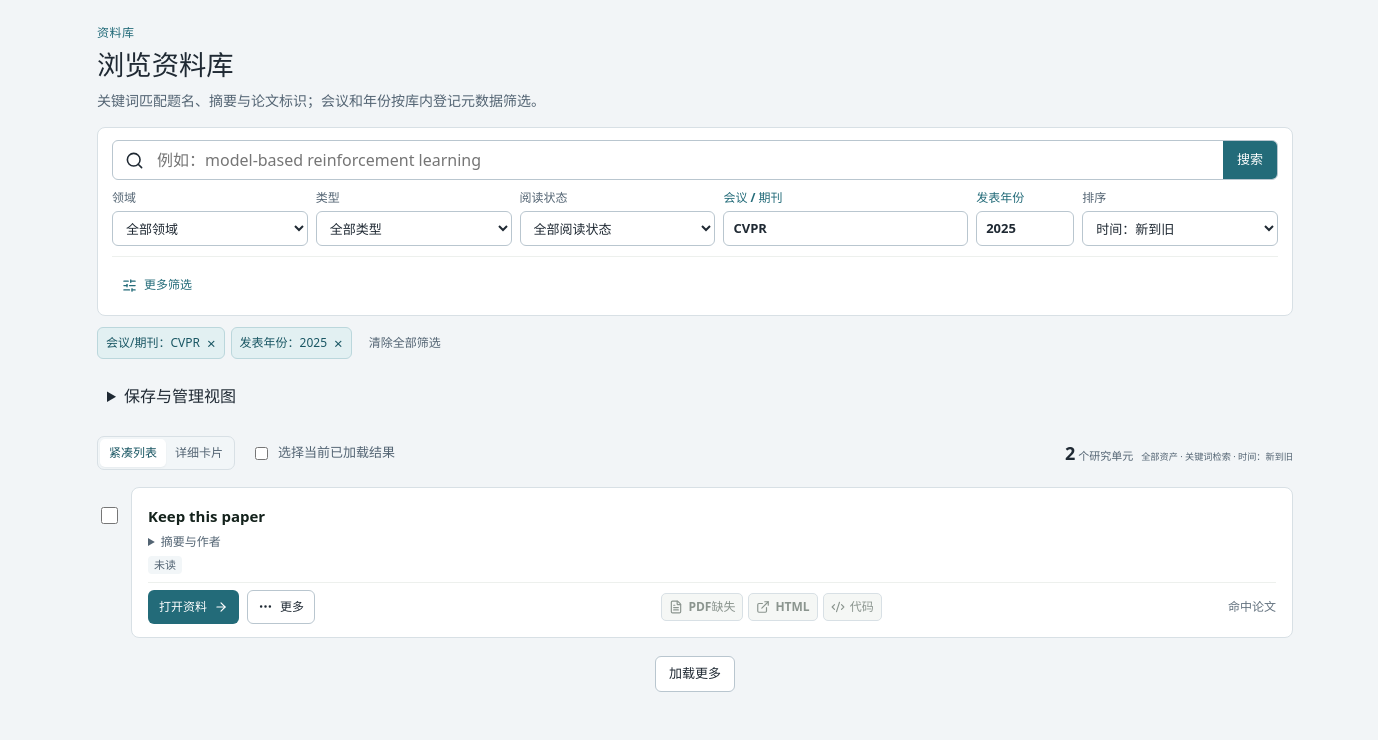
Test: SearchPage › retains loaded results and selection after next-page failure and retries only that page
expect the heading "Keep this paper" is shown: met, box x1=148 y1=506 x2=265 y2=526
Click the checkbox named "选择 Keep this paper".
click(110, 516)  # box x1=101 y1=507 x2=118 y2=524
(page scrolled)
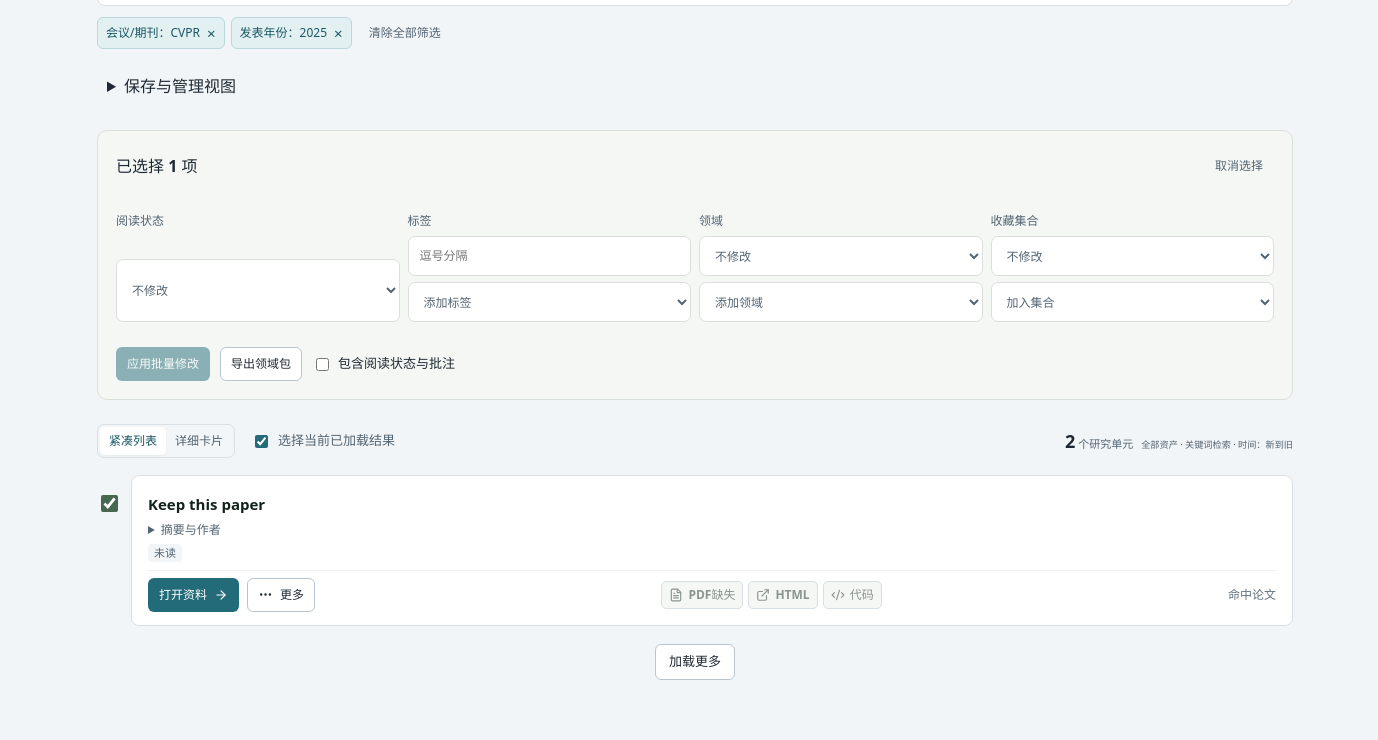
Click the button "加载更多".
click(695, 662)  # box x1=655 y1=644 x2=735 y2=680
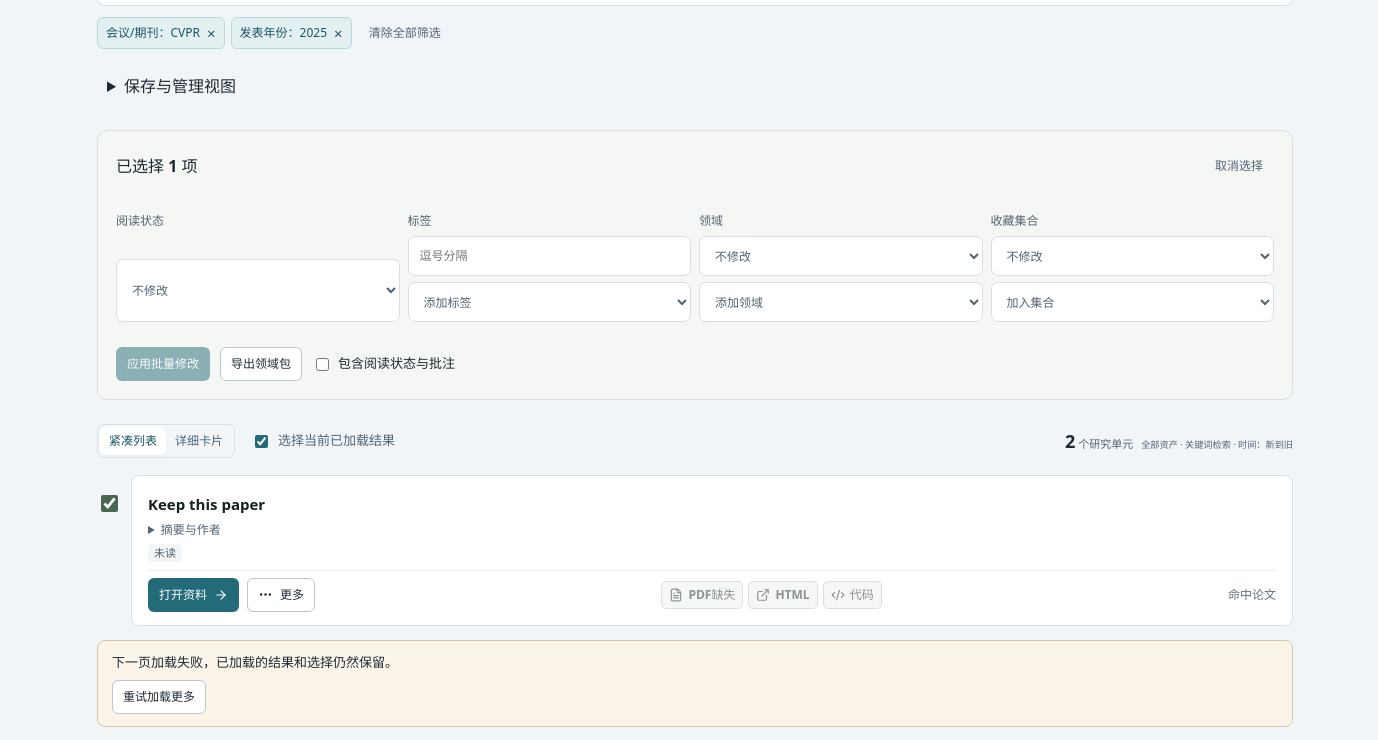
expect the heading "Keep this paper" is shown: met, box x1=148 y1=494 x2=265 y2=514
expect the checkbox named "选择 Keep this paper" is checked: met, box x1=101 y1=495 x2=118 y2=512
Click the button "重试加载更多".
click(159, 697)  # box x1=112 y1=680 x2=206 y2=714
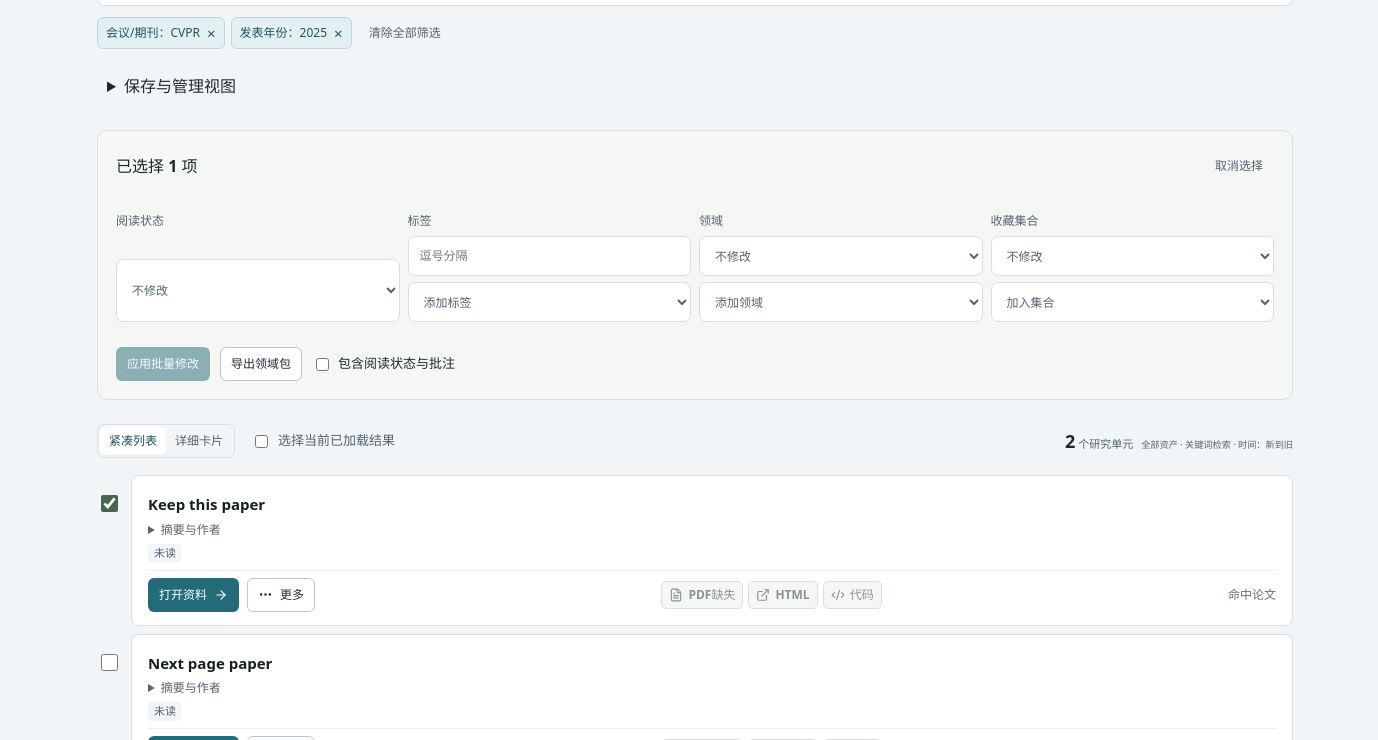
expect the checkbox named "选择 Keep this paper" next to "Keep this paper" is checked: met, box x1=101 y1=495 x2=118 y2=512
expect the heading "Next page paper" is shown: met, box x1=148 y1=653 x2=272 y2=673
